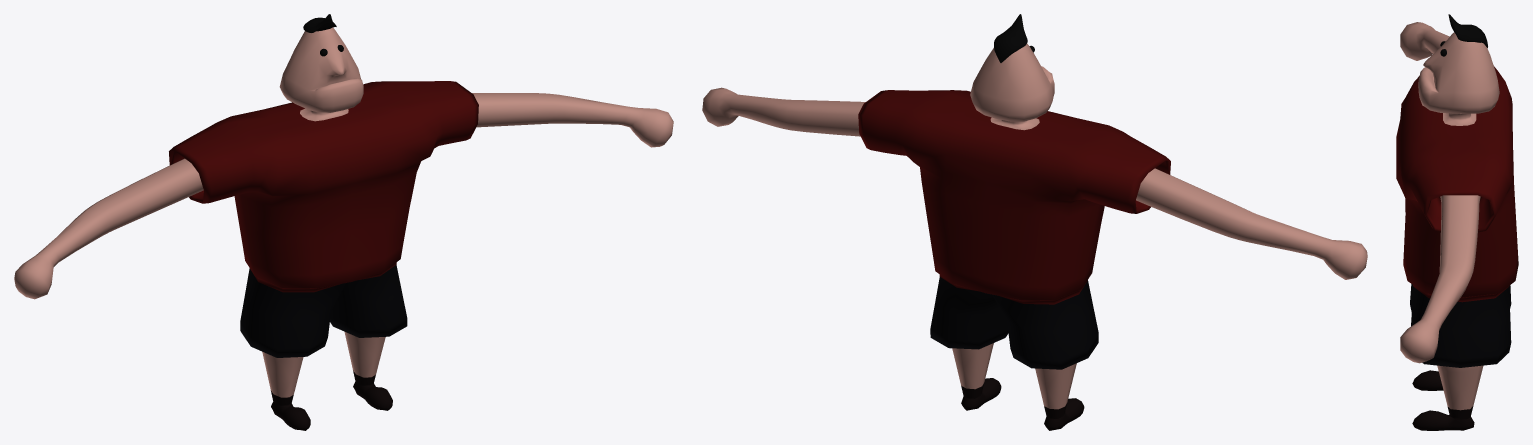
Rendered from HumanMesh.FBX.
3 views of the same model, side by side, from view 1: azimuth 30°, elevation 25°; view 2: azimuth 150°, elevation 25°; view 3: azimuth 270°, elevation 25° (orthographic).
Parts seen in each view (by area): view 1: Human_Body; view 2: Human_Body; view 3: Human_Body.
Part boxes in pixels (x1,y1,x2,y2): Human_Body: (14, 14, 673, 430); Human_Body: (702, 14, 1367, 430); Human_Body: (1396, 14, 1518, 430).
Bounding box in the file's own units: 61.65 × 35.56 × 9.99.
